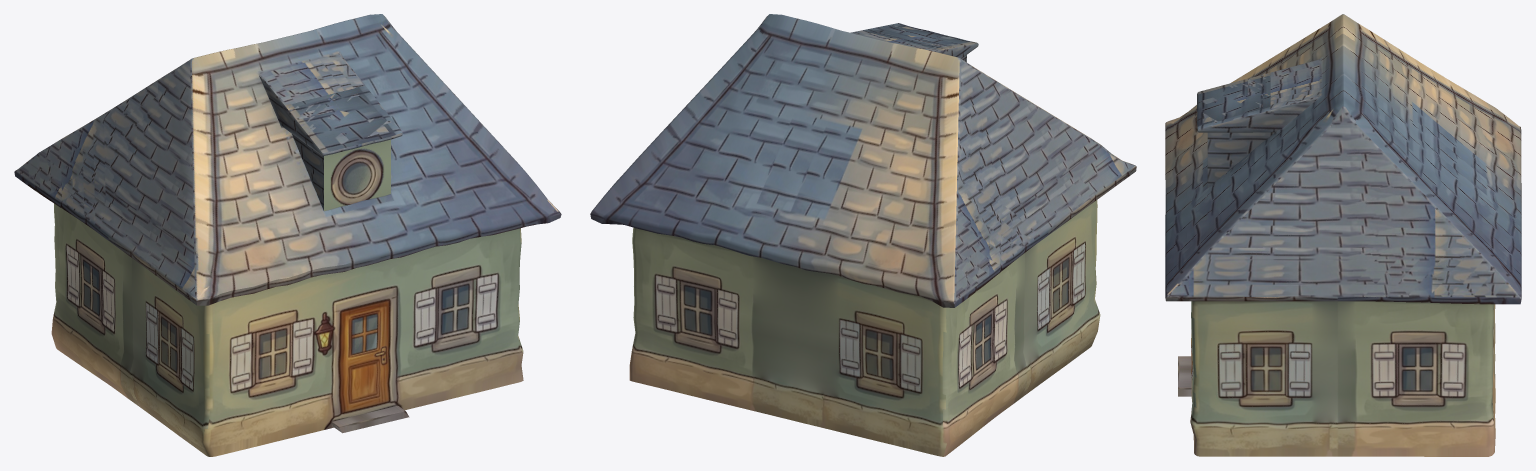
Rendered from havre_maison_3.glb.
3 views of the same model, side by side, from view 1: azimuth 30°, elevation 25°; view 2: azimuth 150°, elevation 25°; view 3: azimuth 270°, elevation 25° (orthographic). The views are drawn at different scales.
Visible parts, largest first — view 1: maison; view 2: maison; view 3: maison.
Boxes of the visible parts, box(x1,y1,x2,y2) form: maison: box(14, 14, 561, 456); maison: box(590, 14, 1136, 456); maison: box(1165, 14, 1521, 456).
Bounding box in the file's own units: 6.56 × 5.66 × 5.68.
1 material, 1 textured.
